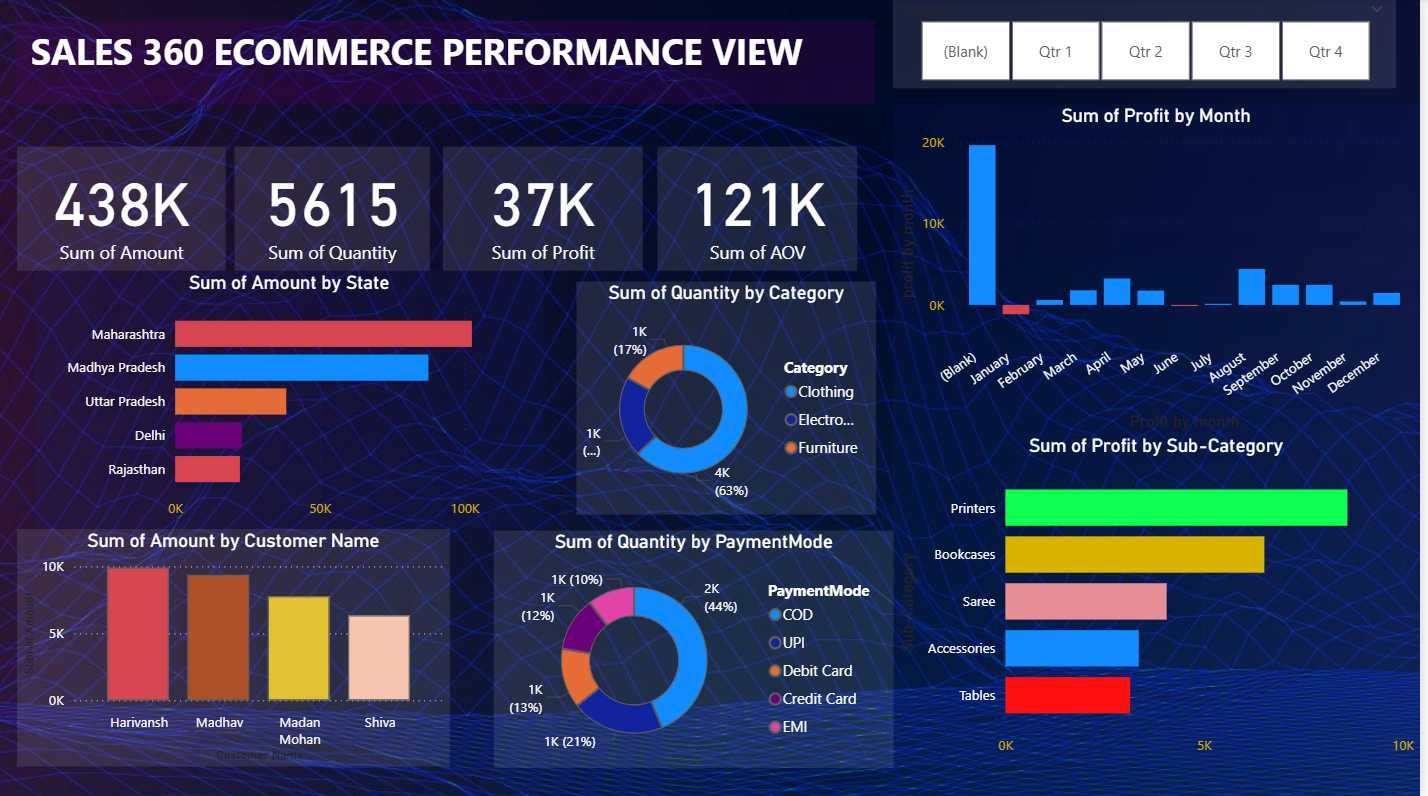

The page's visual inventory and layout, read from the dashboard file:
{"tool":"powerbi","page":{"name":"Page 1","canvas":[1280,720],"ordinal":0},"visuals":[{"type":"textbox","box":[15.1,20.8,774.8,75.6],"z":0},{"type":"clusteredColumnChart","fields":{"Y":["Sum(Details.Profit)"],"Category":["Orders.Order Date.Variation.Date Hierarchy.Month"]},"box":[806,96,474,298],"z":1000},{"type":"barChart","fields":{"Category":["Details.Sub-Category"],"Y":["Sum(Details.Profit)"]},"box":[806,394,474,298],"z":2000},{"type":"donutChart","fields":{"Y":["Sum(Details.Quantity)"],"Category":["Details.Category"]},"box":[520,256,270,210],"z":3000},{"type":"donutChart","fields":{"Y":["Sum(Details.Quantity)"],"Category":["Details.PaymentMode"]},"box":[446,480,360,214],"z":4000},{"type":"card","fields":{"Values":["Sum(Details.Amount)"]},"box":[16,134,188,112],"z":5000},{"type":"card","fields":{"Values":["Sum(Details.Quantity)"]},"box":[212,134,176,112],"z":6000},{"type":"card","fields":{"Values":["Sum(Details.Profit)"]},"box":[400,134,180,112],"z":7000},{"type":"card","fields":{"Values":["Sum(Details.AOV)"]},"box":[594,134,180,112],"z":8000},{"type":"barChart","fields":{"Category":["Orders.State"],"Y":["Sum(Details.Amount)"]},"box":[32,246,458,232],"z":9000},{"type":"columnChart","fields":{"Category":["Orders.Customer Name"],"Y":["Sum(Details.Amount)"]},"box":[16,478,390,214],"z":10000},{"type":"slicer","fields":{"Values":["Orders.Order Date.Variation.Date Hierarchy.Quarter"]},"box":[805,0,453.5,81.3],"z":11000}]}

Visuals, with their boxes in screenshot pixels (x1, y1, x2, y2), scaled from the page's 1280x720 canvas onto the 1428x796 screenshot:
textbox: 17/23/881/107
clusteredColumnChart - Sum(Details.Profit) x Orders.Order Date.Variation.Date Hierarchy.Month: 899/106/1427/436
barChart - Details.Sub-Category x Sum(Details.Profit): 899/436/1427/765
donutChart - Sum(Details.Quantity) x Details.Category: 580/283/881/515
donutChart - Sum(Details.Quantity) x Details.PaymentMode: 498/531/899/767
card - Sum(Details.Amount): 18/148/228/272
card - Sum(Details.Quantity): 237/148/433/272
card - Sum(Details.Profit): 446/148/647/272
card - Sum(Details.AOV): 663/148/863/272
barChart - Orders.State x Sum(Details.Amount): 36/272/547/528
columnChart - Orders.Customer Name x Sum(Details.Amount): 18/528/453/765
slicer - Orders.Order Date.Variation.Date Hierarchy.Quarter: 898/0/1404/90
